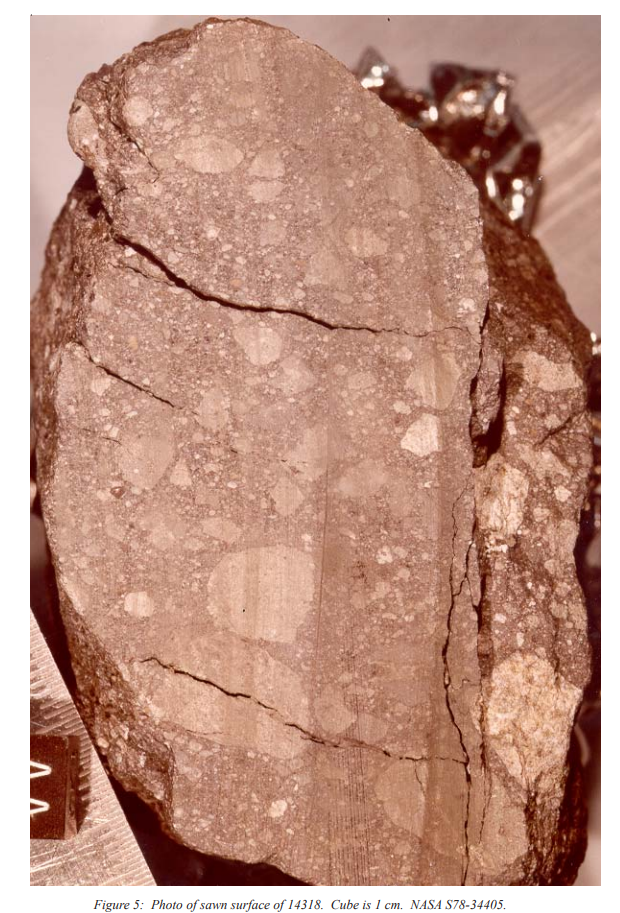Breccia: (60, 31, 574, 885), (201, 213, 560, 861)
